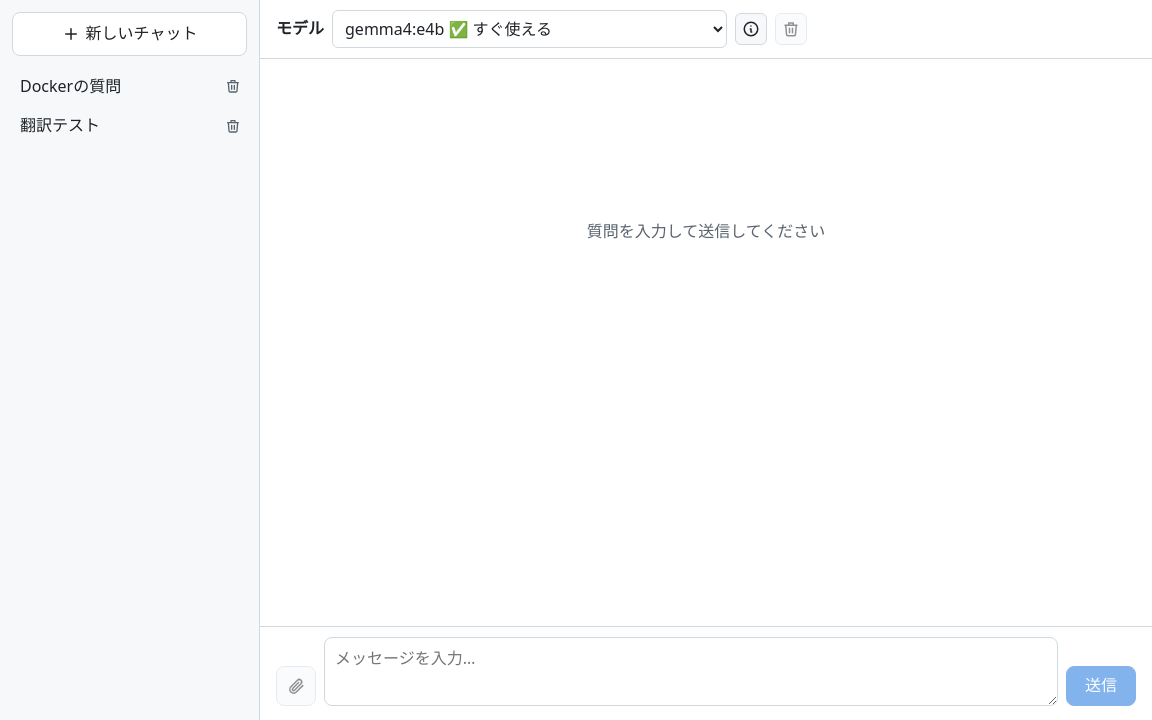
Scenario: AppShell › アプリを開いた直後は新しいチャット（空）＋デフォルトモデル。過去のセッションは一覧から開く
Expected: the dropdown labelled "モデル" shows "gemma4:e4b ✅ すぐ使える", [332, 10, 727, 48]
Expected: the dropdown labelled "モデル" is enabled, [332, 10, 727, 48]
Step 1. Click the button with aria-label "Dockerの質問 を開く" → x=116, y=86, box [12, 68, 219, 105]
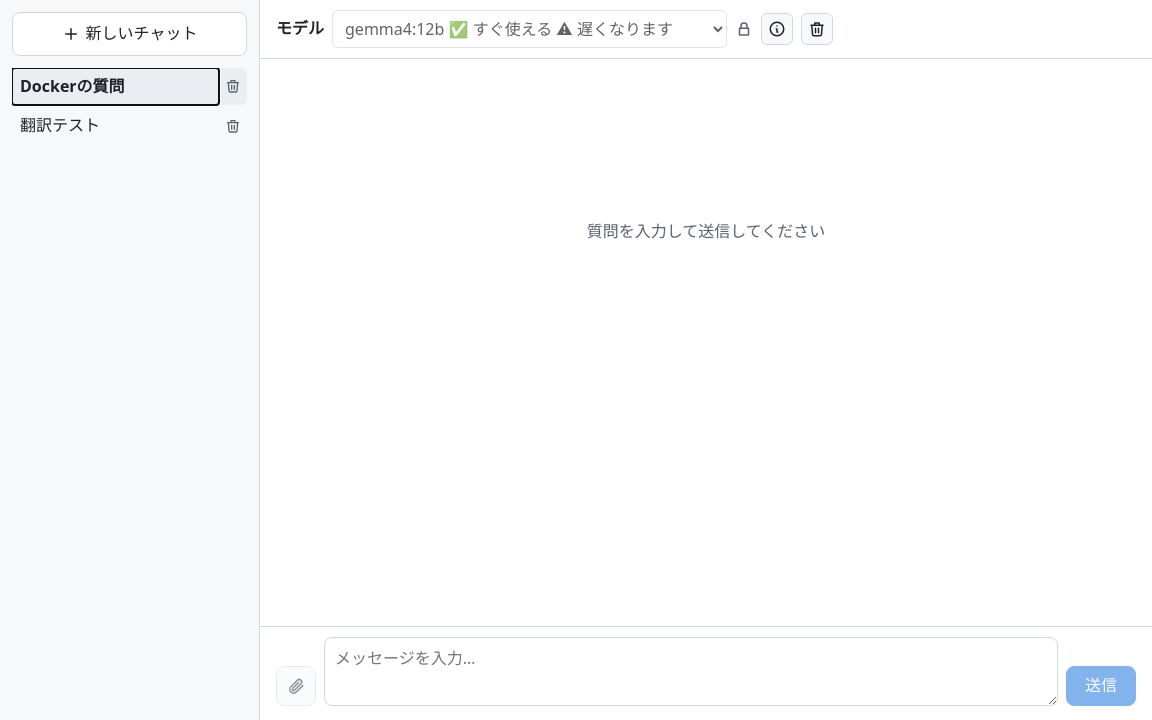
Expected: the dropdown labelled "モデル" shows "gemma4:12b ✅ すぐ使える ⚠ 遅くなります", [332, 10, 727, 48]
Expected: the dropdown labelled "モデル" is disabled, [332, 10, 727, 48]
Step 2. Click the button "新しいチャット" → x=130, y=34, box [12, 12, 247, 56]
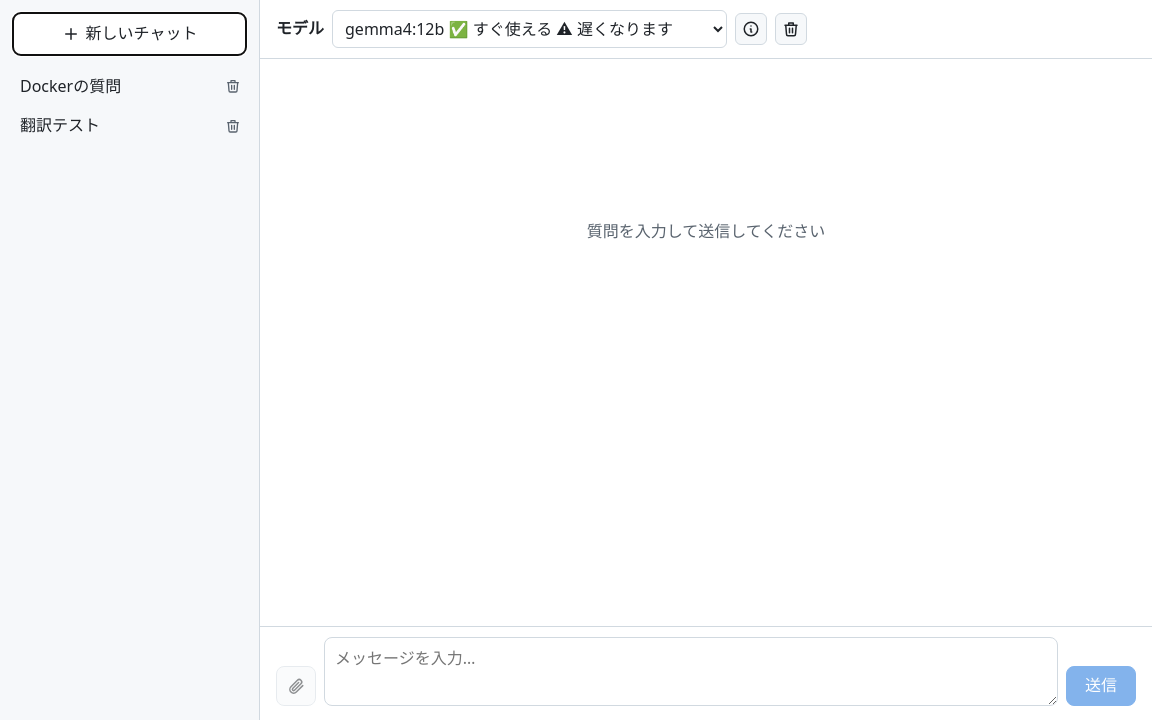
Expected: the dropdown labelled "モデル" is enabled, [332, 10, 727, 48]
